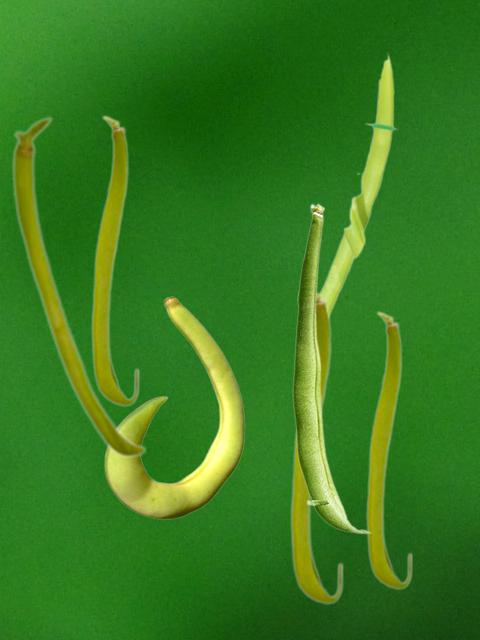french_bean: (11, 115, 146, 458), (104, 296, 244, 518), (292, 203, 371, 533), (319, 51, 397, 314), (289, 289, 343, 604), (90, 114, 139, 406), (365, 310, 412, 589)
